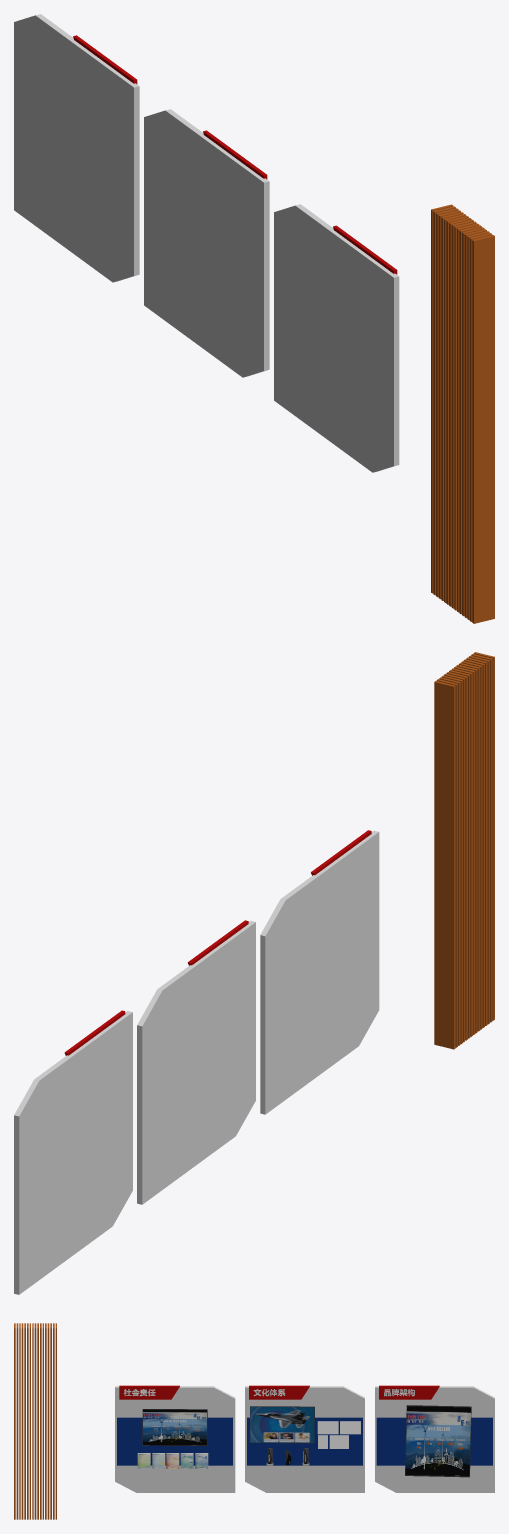
Rendered from chunk-001.gltf.
The picture shows the model from 3 angles, top to bottom: view 1: azimuth 30°, elevation 25°; view 2: azimuth 150°, elevation 25°; view 3: azimuth 270°, elevation 25°; orthographic projection. The views are drawn at different scales.
Visible parts, largest first — view 1: ue_05250587-4D31-7935-432F-3A811EE635DC, ue_930CF04A-4A65-34BA-5F8A-83B2E6CA0EFC, ue_E12D8760-4AB7-5556-B7E3-2E805A7BEF33, ue_D87C76E4-4597-0667-FBF7-13B7B26E9551; view 2: ue_930CF04A-4A65-34BA-5F8A-83B2E6CA0EFC, ue_E12D8760-4AB7-5556-B7E3-2E805A7BEF33, ue_05250587-4D31-7935-432F-3A811EE635DC, ue_D87C76E4-4597-0667-FBF7-13B7B26E9551; view 3: ue_930CF04A-4A65-34BA-5F8A-83B2E6CA0EFC, ue_05250587-4D31-7935-432F-3A811EE635DC, ue_E12D8760-4AB7-5556-B7E3-2E805A7BEF33, ue_D87C76E4-4597-0667-FBF7-13B7B26E9551, ue_F20C7B3F-4148-7281-EDD2-FF886E8DBFCF.
Part boxes in pixels (x1=…): ue_05250587-4D31-7935-432F-3A811EE635DC: x1=144, y1=109, x2=269, y2=377; ue_930CF04A-4A65-34BA-5F8A-83B2E6CA0EFC: x1=274, y1=204, x2=399, y2=472; ue_E12D8760-4AB7-5556-B7E3-2E805A7BEF33: x1=14, y1=14, x2=139, y2=282; ue_D87C76E4-4597-0667-FBF7-13B7B26E9551: x1=431, y1=204, x2=494, y2=623; ue_930CF04A-4A65-34BA-5F8A-83B2E6CA0EFC: x1=260, y1=830, x2=379, y2=1114; ue_E12D8760-4AB7-5556-B7E3-2E805A7BEF33: x1=14, y1=1010, x2=132, y2=1294; ue_05250587-4D31-7935-432F-3A811EE635DC: x1=137, y1=920, x2=255, y2=1204; ue_D87C76E4-4597-0667-FBF7-13B7B26E9551: x1=434, y1=652, x2=494, y2=1049; ue_930CF04A-4A65-34BA-5F8A-83B2E6CA0EFC: x1=115, y1=1385, x2=235, y2=1492; ue_05250587-4D31-7935-432F-3A811EE635DC: x1=245, y1=1385, x2=364, y2=1492; ue_E12D8760-4AB7-5556-B7E3-2E805A7BEF33: x1=375, y1=1385, x2=494, y2=1492; ue_D87C76E4-4597-0667-FBF7-13B7B26E9551: x1=14, y1=1323, x2=56, y2=1519; ue_F20C7B3F-4148-7281-EDD2-FF886E8DBFCF: x1=405, y1=1405, x2=471, y2=1477.
Bounding box in the file's own units: 0.4018 × 4 × 9.11.
